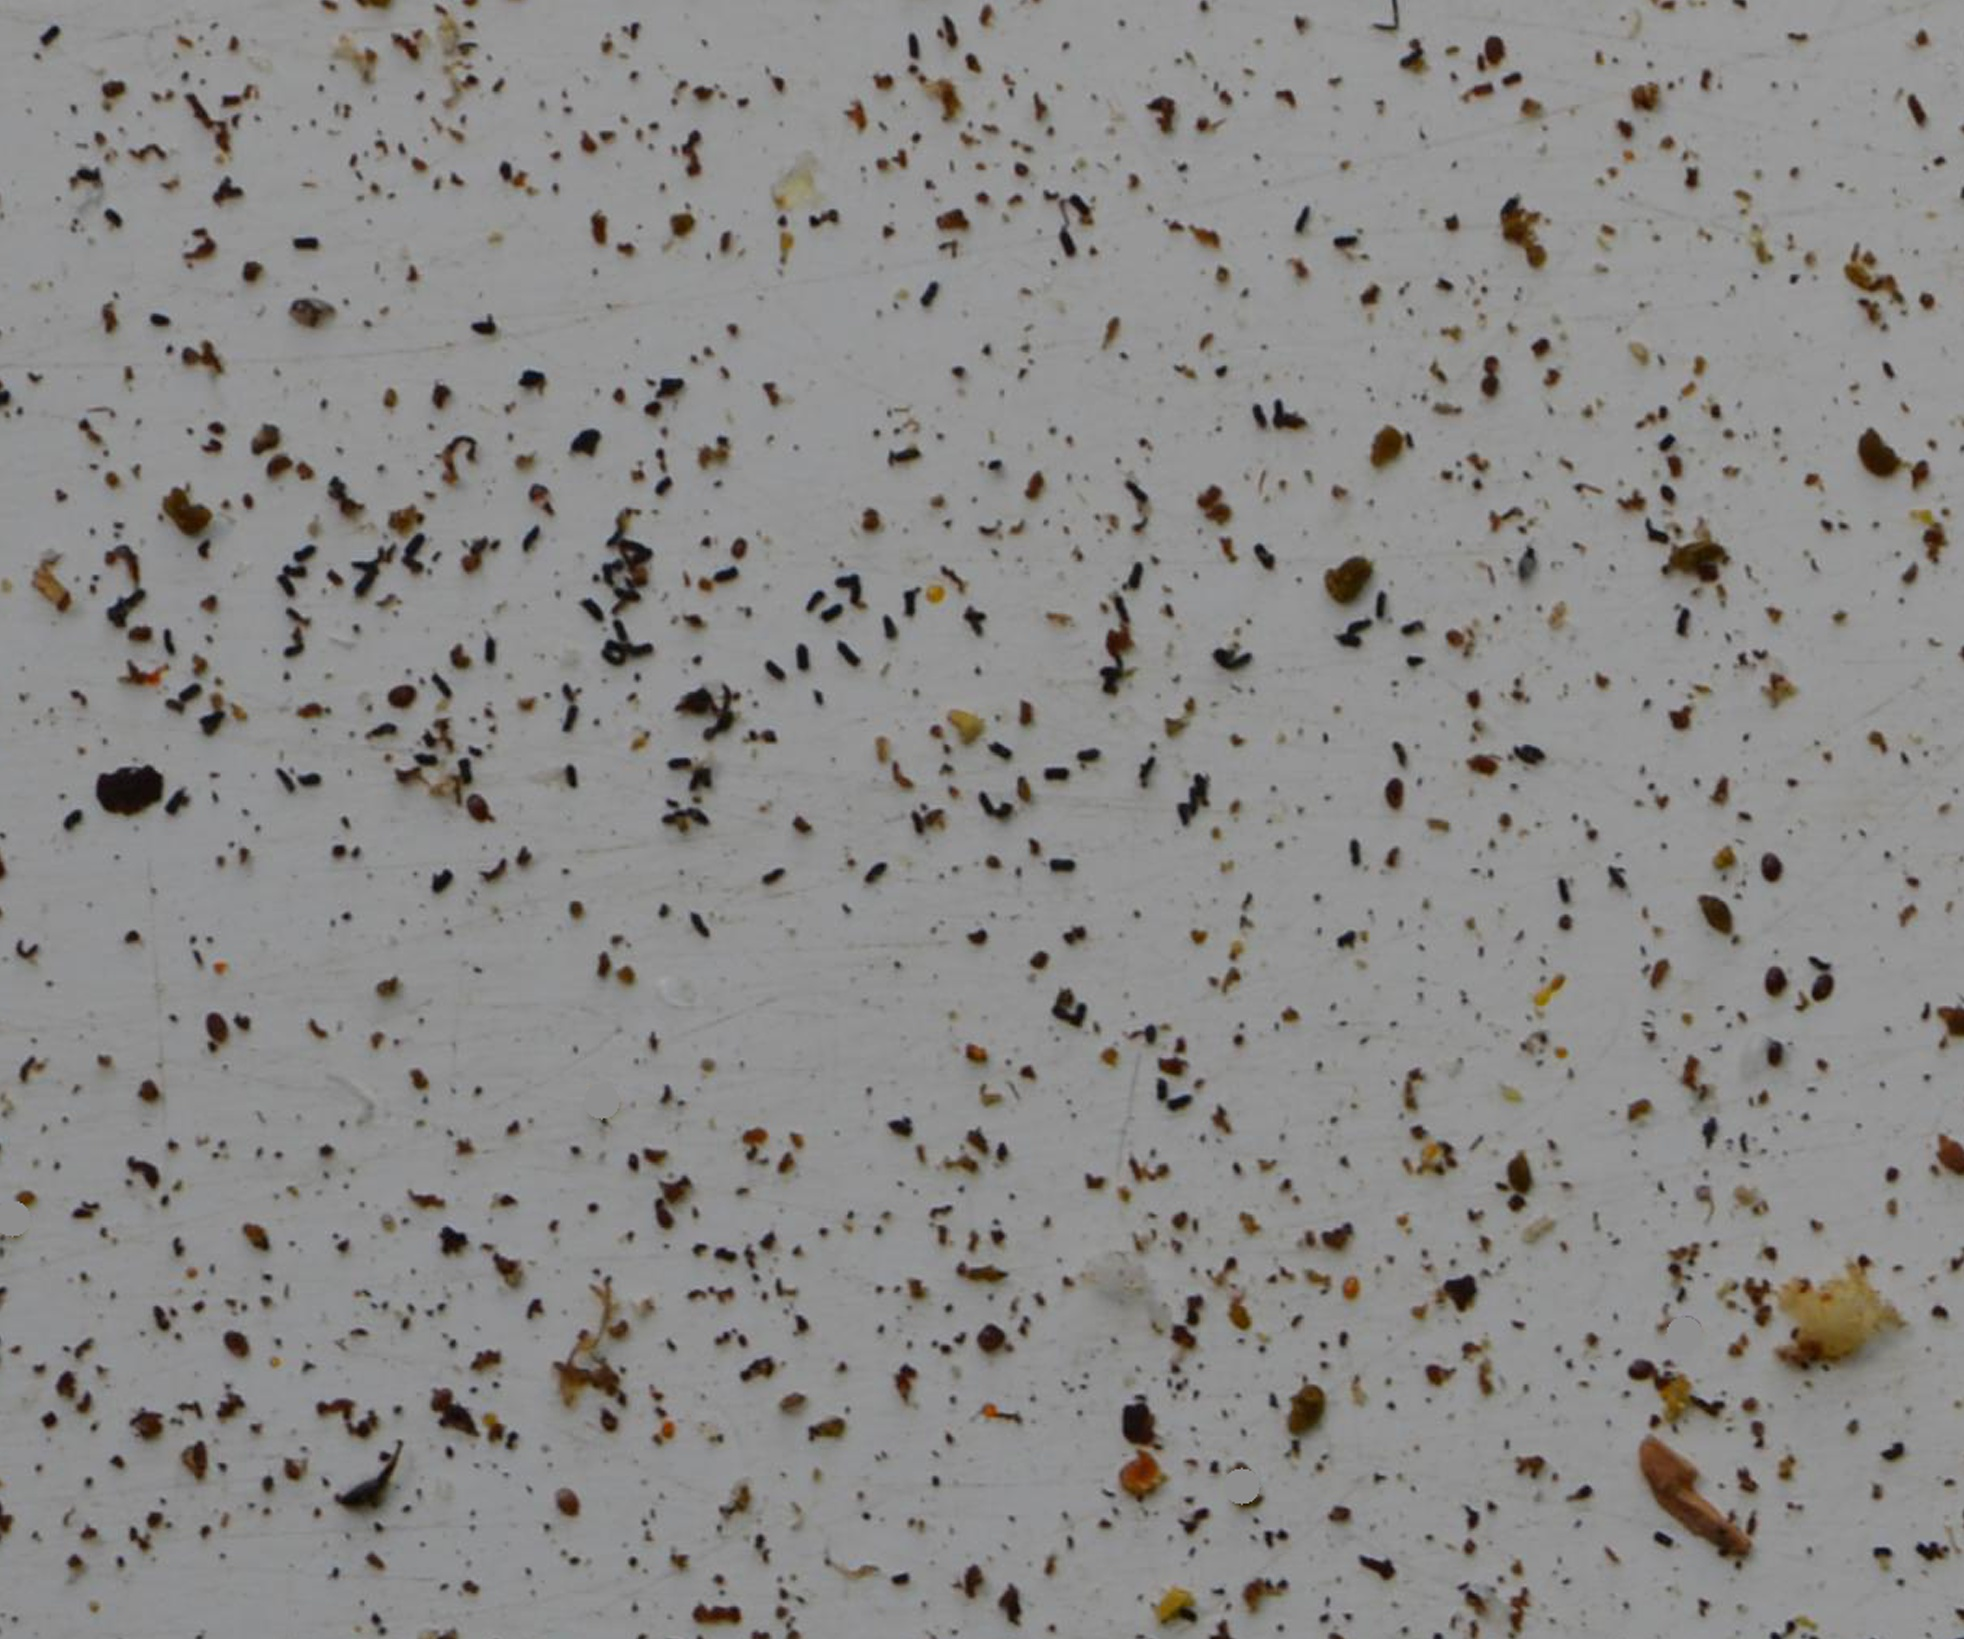Varroa: (1475, 42, 1512, 82), (1754, 961, 1789, 1000), (458, 789, 494, 825), (388, 680, 422, 716), (201, 1009, 235, 1045), (223, 1326, 258, 1360), (1501, 1163, 1533, 1199), (1757, 850, 1789, 884), (555, 1486, 587, 1520), (1803, 969, 1837, 1001), (1625, 1357, 1657, 1391), (431, 1386, 463, 1420), (1380, 778, 1411, 811)
